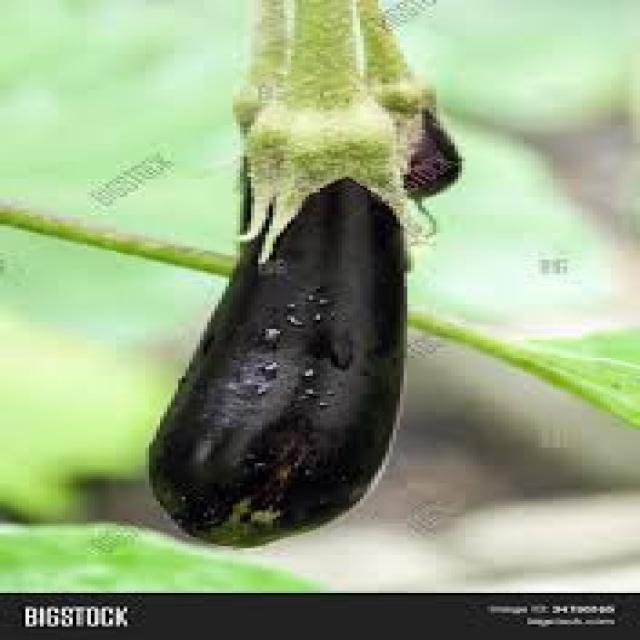Eggplant: (140, 12, 432, 546)
